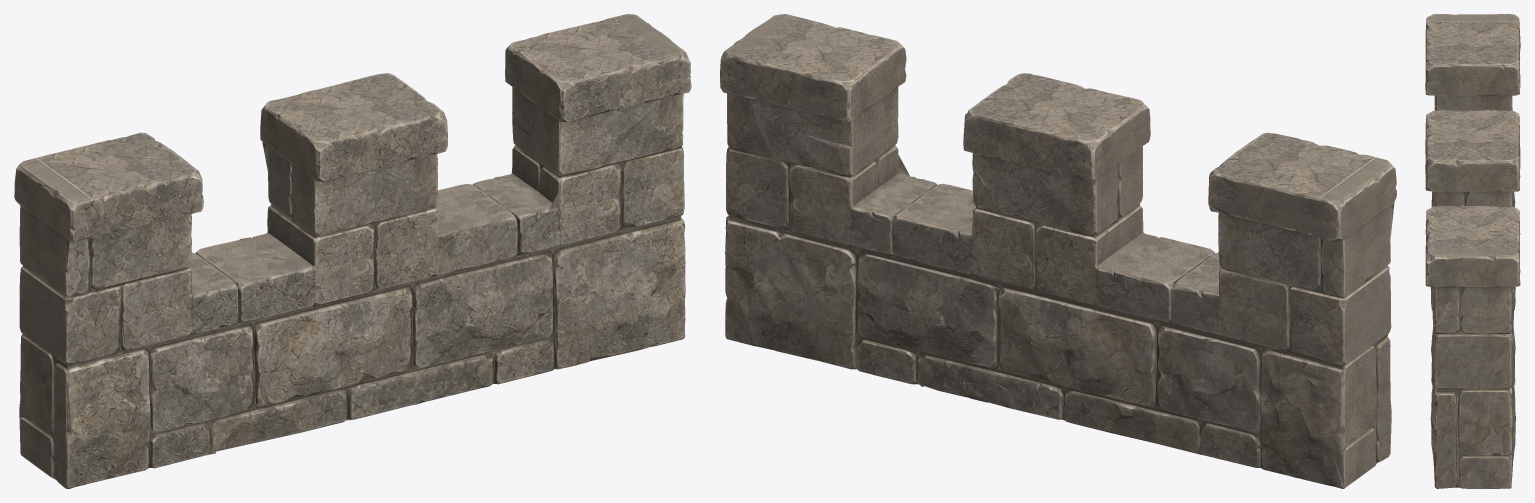
File: parapet.glb
3 views of the same model, side by side, from view 1: azimuth 30°, elevation 25°; view 2: azimuth 150°, elevation 25°; view 3: azimuth 270°, elevation 25° (orthographic). The views are drawn at different scales.
Parts seen in each view (by area): view 1: parapet; view 2: parapet; view 3: parapet.
Part boxes in pixels (x1,y1,x2,y2): parapet: [14, 14, 691, 488]; parapet: [720, 14, 1396, 488]; parapet: [1425, 14, 1520, 488].
Bounding box in the file's own units: 1.9 × 0.8475 × 0.3137.
1 material, 1 textured.
